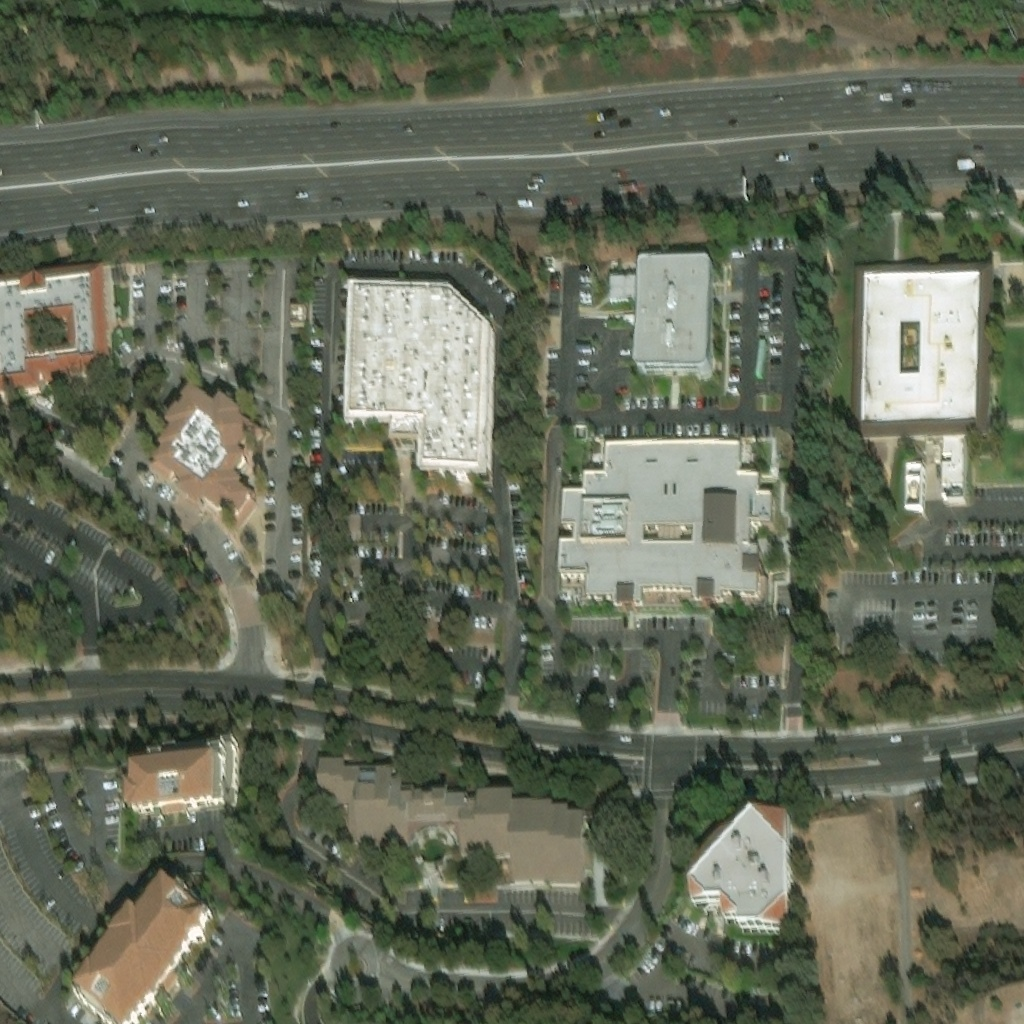0 no-damage: (560, 440, 773, 611), (318, 756, 592, 882), (345, 281, 492, 477), (848, 263, 995, 439), (70, 882, 214, 1023), (145, 387, 264, 527), (0, 266, 112, 394), (608, 257, 712, 369), (690, 816, 792, 930), (124, 743, 239, 815), (941, 438, 964, 482)
